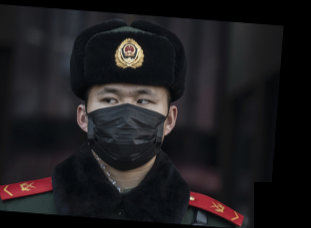with_mask: (84, 85, 167, 170)
